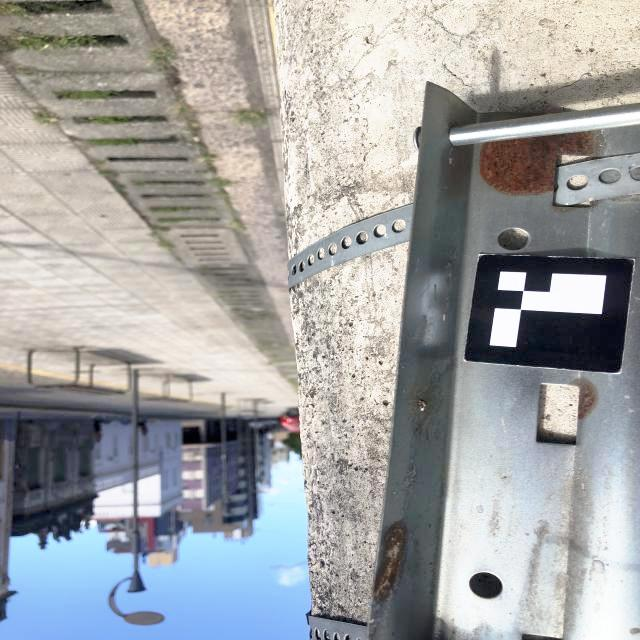Corrosion: (480, 131, 598, 195), (372, 523, 406, 604), (575, 380, 598, 420)
